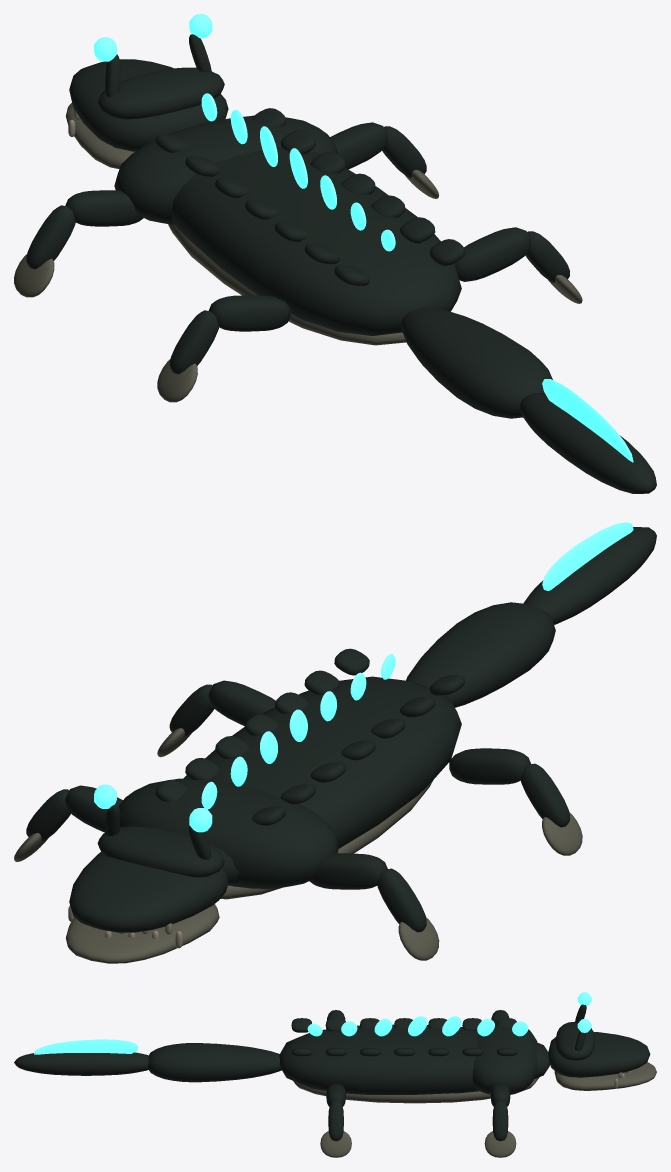
File: lurker.glb
The picture shows the model from 3 angles, top to bottom: view 1: azimuth 30°, elevation 25°; view 2: azimuth 150°, elevation 25°; view 3: azimuth 270°, elevation 25°; orthographic projection. The views are drawn at different scales.
Visible parts, largest first — view 1: torso, tail, shoulders, tail_tip, skull, brow, upperR1, upperL1, upperL0, belly, tail_fin, lowerL1 (+9 smaller); view 2: torso, shoulders, tail, skull, tail_tip, jaw, brow, upperL1, upperL0, tail_fin, upperR1, lowerL0 (+10 smaller); view 3: torso, tail, shoulders, skull, tail_tip, belly, jaw, tail_fin, brow, pawR1, pawR0, lowerR1 (+5 smaller).
Boxes of the visible parts, left/top/right/bottom form: torso: left=171, top=147, right=461, bottom=335; tail: left=401, top=307, right=552, bottom=418; shoulders: left=114, top=115, right=338, bottom=224; tail_tip: left=519, top=393, right=656, bottom=493; skull: left=69, top=59, right=228, bottom=151; brow: left=97, top=67, right=224, bottom=119; upperR1: left=454, top=227, right=531, bottom=281; upperL1: left=208, top=295, right=290, bottom=331; upperL0: left=65, top=190, right=143, bottom=226; belly: left=168, top=224, right=406, bottom=345; tail_fin: left=542, top=379, right=633, bottom=462; lowerL1: left=169, top=310, right=218, bottom=374; torso: left=183, top=676, right=461, bottom=885; shoulders: left=119, top=778, right=338, bottom=888; tail: left=406, top=602, right=555, bottom=707; skull: left=69, top=852, right=228, bottom=932; tail_tip: left=523, top=527, right=656, bottom=624; jaw: left=66, top=904, right=219, bottom=963; brow: left=97, top=826, right=224, bottom=877; upperL1: left=449, top=748, right=530, bottom=784; upperL0: left=309, top=853, right=387, bottom=889; tail_fin: left=542, top=522, right=633, bottom=590; upperR1: left=208, top=680, right=275, bottom=726; lowerL0: left=377, top=868, right=426, bottom=932; torso: left=279, top=1024, right=550, bottom=1094; tail: left=148, top=1043, right=281, bottom=1082; shoulders: left=472, top=1020, right=537, bottom=1094; skull: left=548, top=1032, right=650, bottom=1077; tail_tip: left=14, top=1052, right=148, bottom=1075; belly: left=293, top=1077, right=539, bottom=1103; jaw: left=554, top=1062, right=656, bottom=1090; tail_fin: left=34, top=1039, right=138, bottom=1054; brow: left=555, top=1021, right=594, bottom=1060; pawR1: left=320, top=1131, right=351, bottom=1157; pawR0: left=484, top=1131, right=516, bottom=1157; lowerR1: left=328, top=1100, right=343, bottom=1141.
Bounding box in the file's own units: 2.08 × 0.794 × 4.89.
